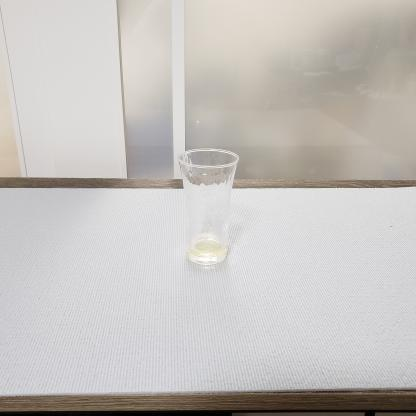glass: (174, 137, 258, 276)
